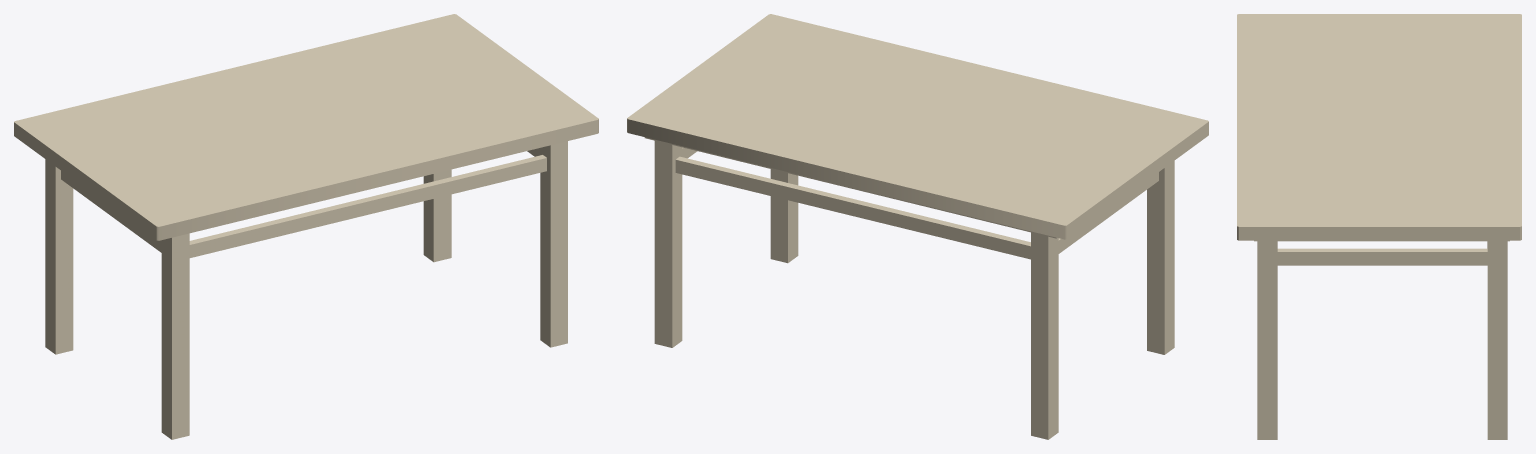
File: Table_A_Snaps004.FBX
3 views of the same model, side by side, from view 1: azimuth 30°, elevation 25°; view 2: azimuth 150°, elevation 25°; view 3: azimuth 270°, elevation 25° (orthographic).
Parts seen in each view (by area): view 1: Geometry_Table_A_LOD00; view 2: Geometry_Table_A_LOD00; view 3: Geometry_Table_A_LOD00.
Boxes of the visible parts, x1,y1,x2,y2 form: Geometry_Table_A_LOD00: (14,14,598,439); Geometry_Table_A_LOD00: (627,14,1208,439); Geometry_Table_A_LOD00: (1237,14,1521,439).
Size of what is drawn, in the model's own units: 183 by 89.39 by 103.
